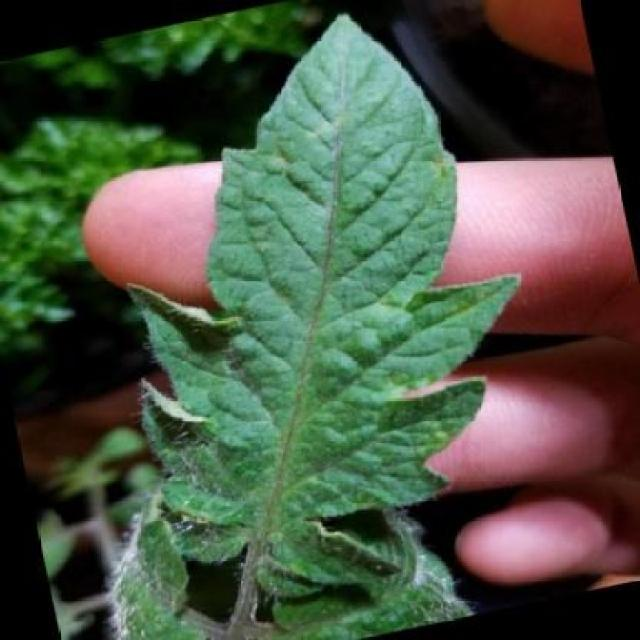Healthy Leaf: (39, 0, 542, 625)
